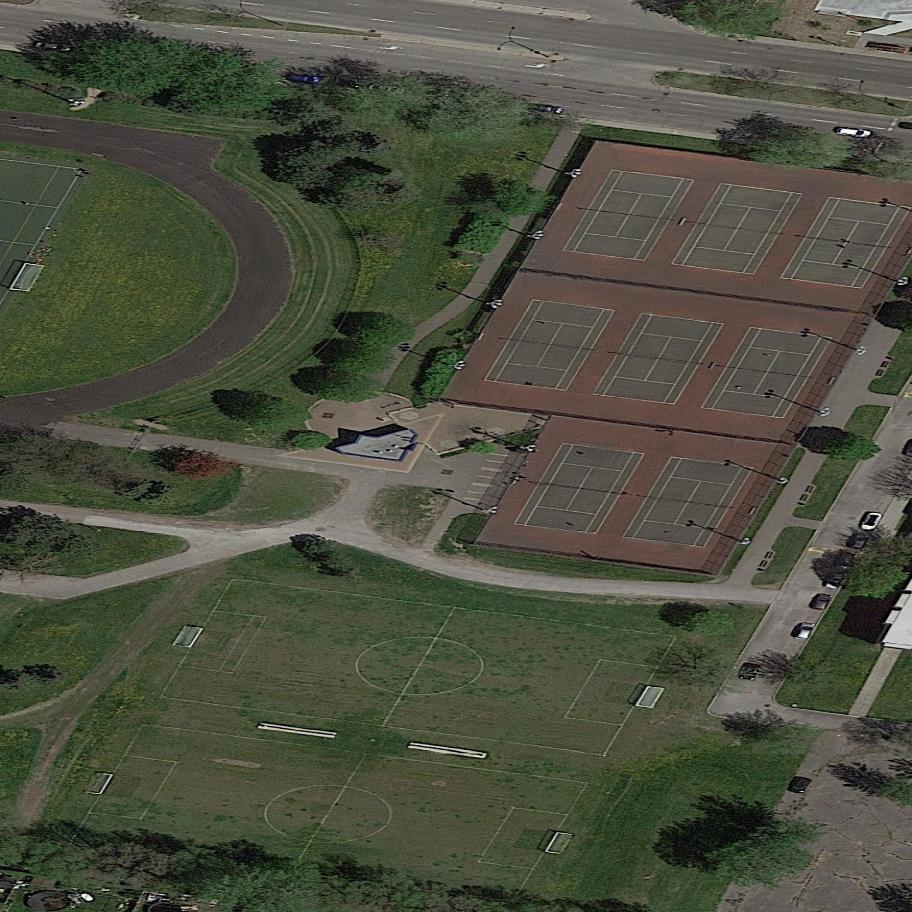small-vehicle: (857, 504, 886, 537), (791, 616, 817, 646), (365, 81, 408, 98), (809, 587, 834, 615), (31, 40, 76, 54), (834, 126, 876, 140), (832, 551, 860, 572), (526, 102, 566, 115), (736, 663, 763, 682), (789, 776, 813, 795), (847, 531, 871, 550), (822, 571, 846, 590), (286, 74, 323, 84)
